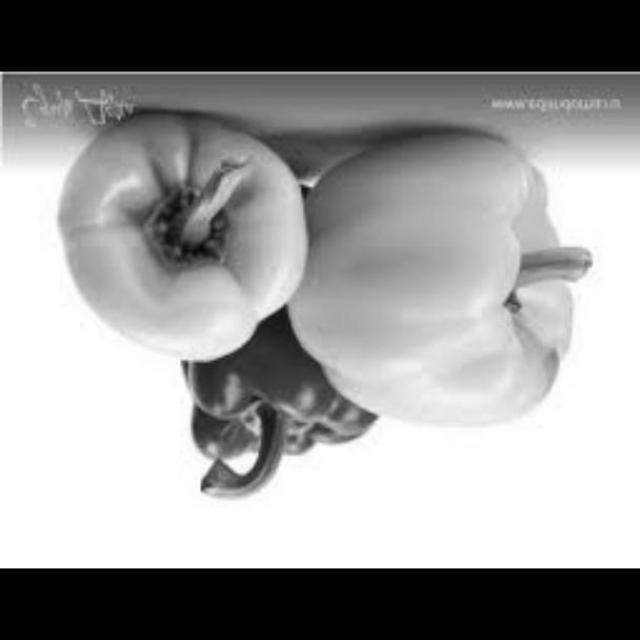ot chuong: (287, 125, 601, 441), (56, 106, 319, 367), (173, 301, 383, 512)
